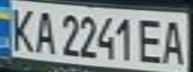1: (112, 15, 139, 62)
2: (57, 10, 81, 58), (78, 11, 100, 60)
4: (97, 12, 118, 61)
A: (157, 16, 190, 65), (30, 7, 57, 55)
E: (136, 15, 166, 64)
K: (3, 4, 39, 54)
